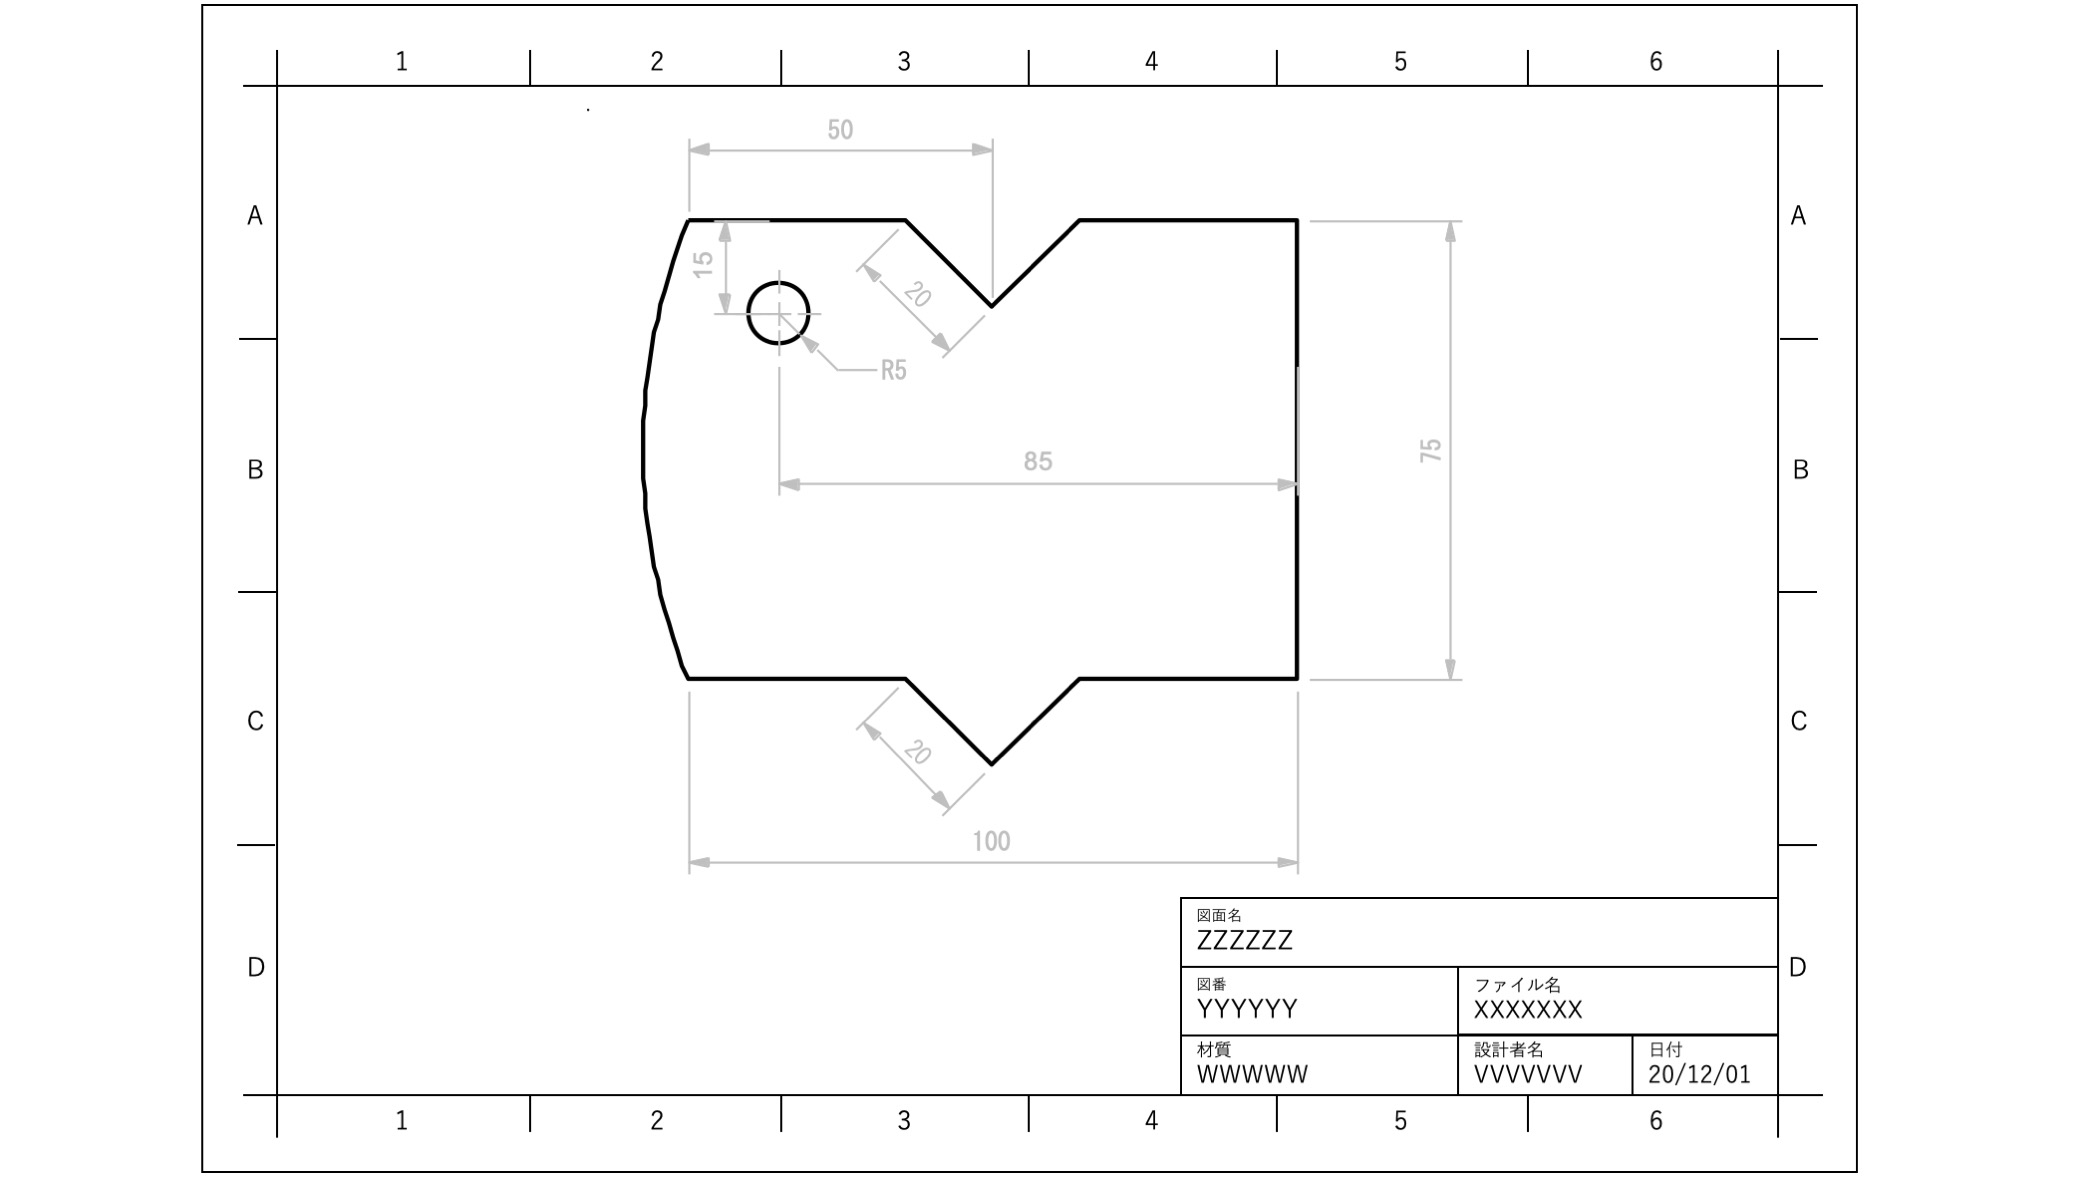circle: (731, 262, 815, 361)
